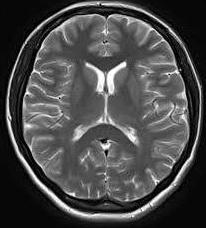Normal_Brain: (2, 1, 206, 228)
